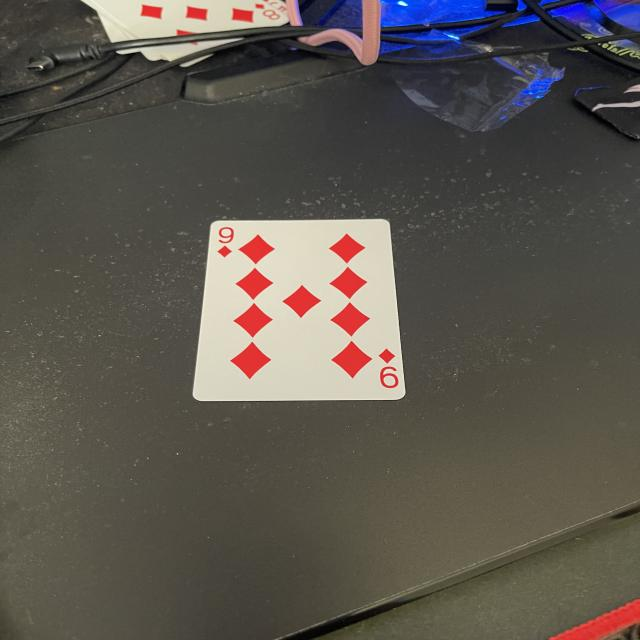9 of diamonds: (193, 220, 405, 401)
